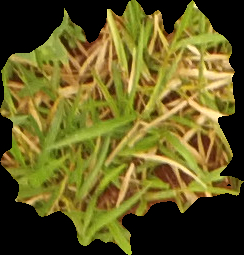grass: (1, 1, 243, 253)
